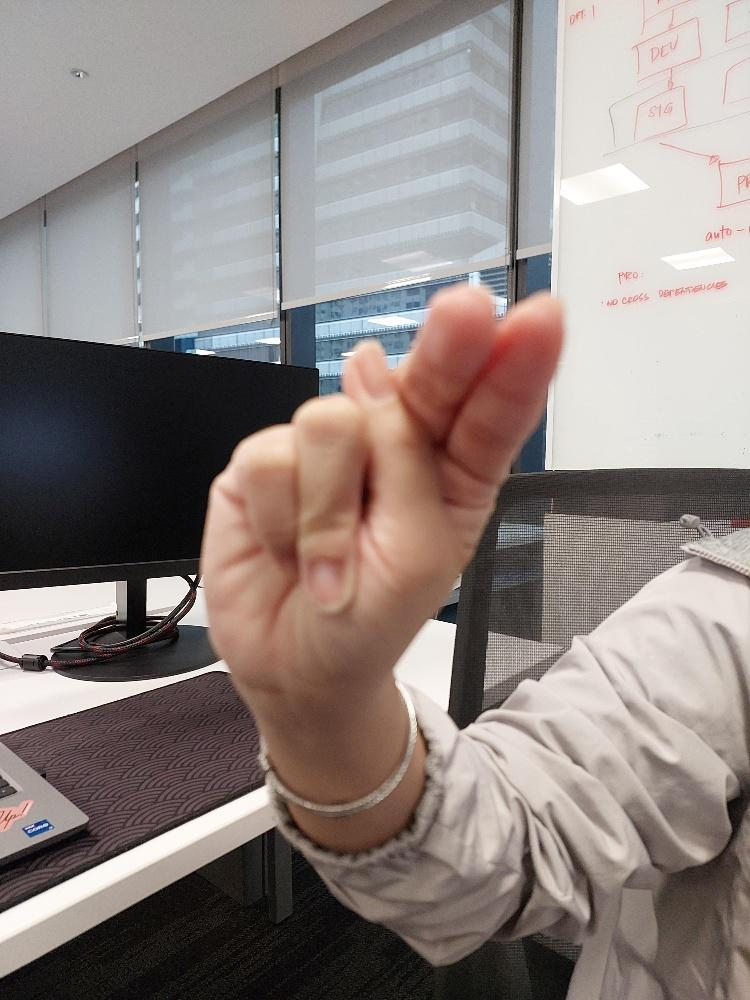n: (198, 284, 570, 679)
